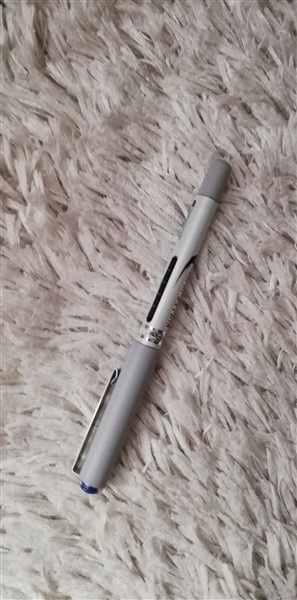pilot kalem: (67, 153, 239, 503)
